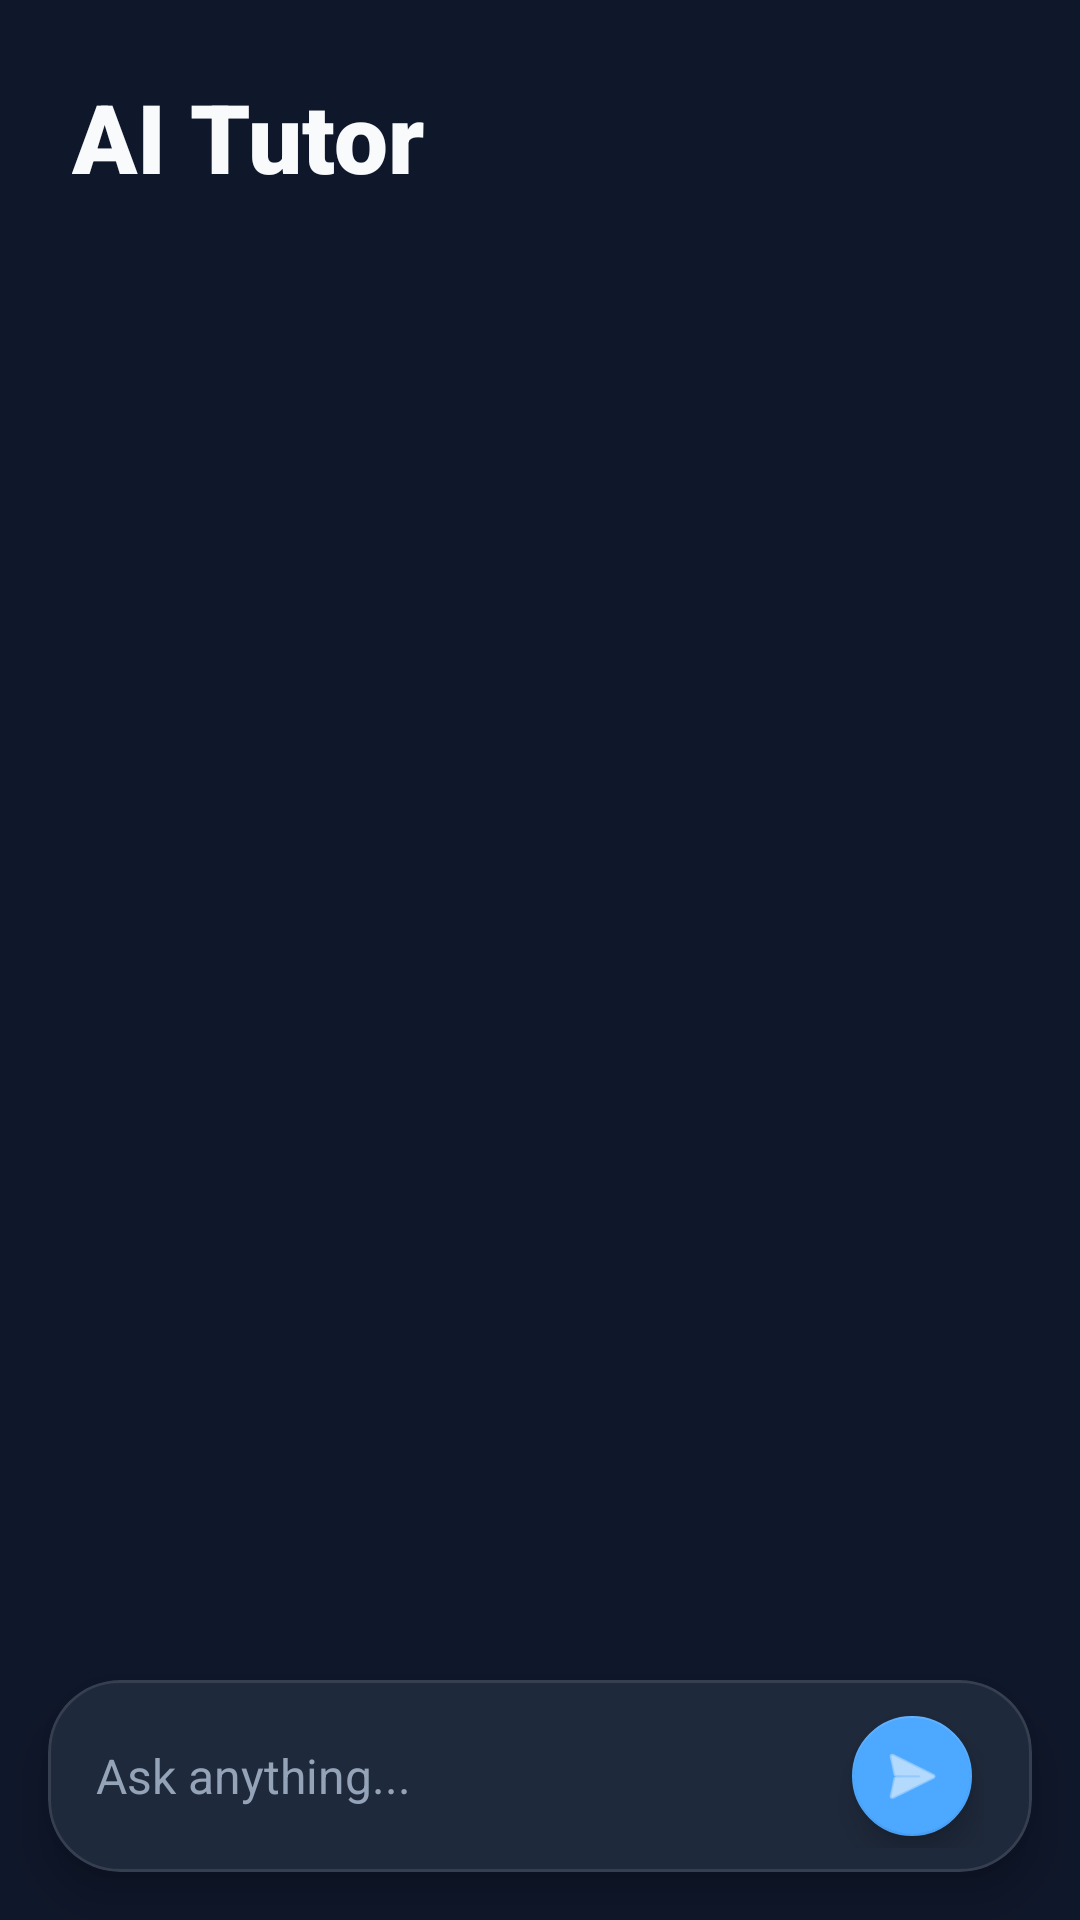

Locate icon controls on the screen. Image size 1080*1920, boxes as (x1, y1, x2, y2).
send: (852, 1716, 972, 1836)
